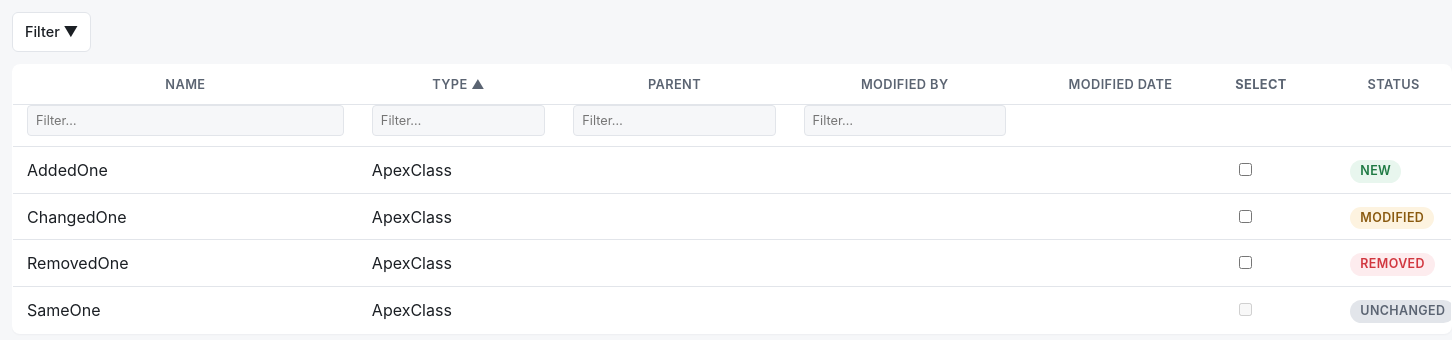
Scenario: DiffTable › status filter › shows the active filter count in the toggle button once something is unchecked
The image size is (1452, 340).
What coordinates should you click on to do the following:
click the button "Filter ▼"
I would click on:
 (52, 32)
Its box is [12, 12, 91, 52].
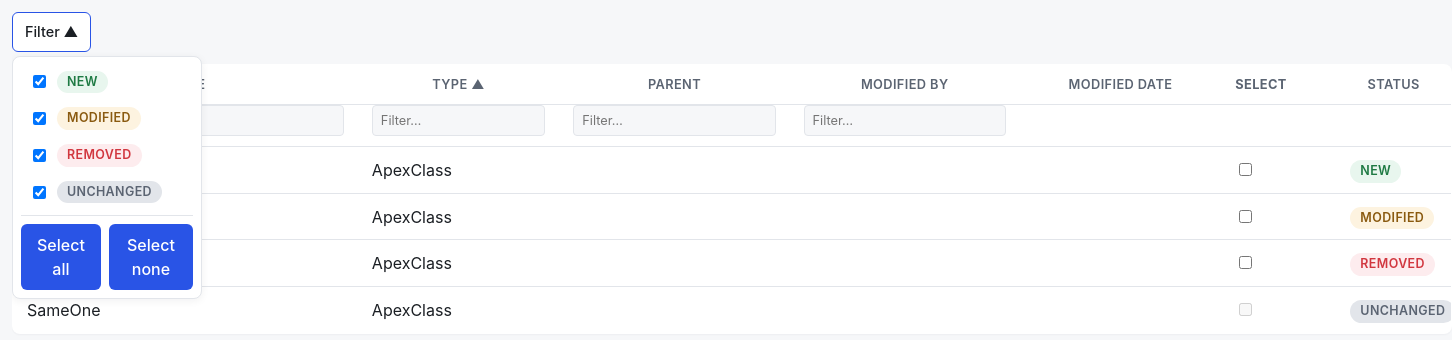
What coordinates should you click on to do the following:
click the checkbox labelled "New"
I would click on:
 (40, 82)
Its box is [33, 76, 46, 88].
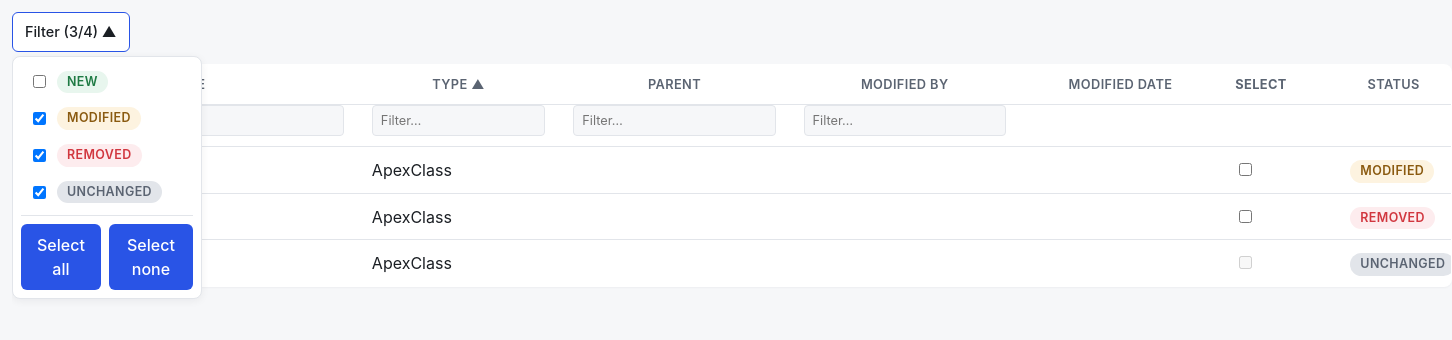
Now the button "Filter (3/4) ▲" is shown, box [12, 12, 130, 52]
